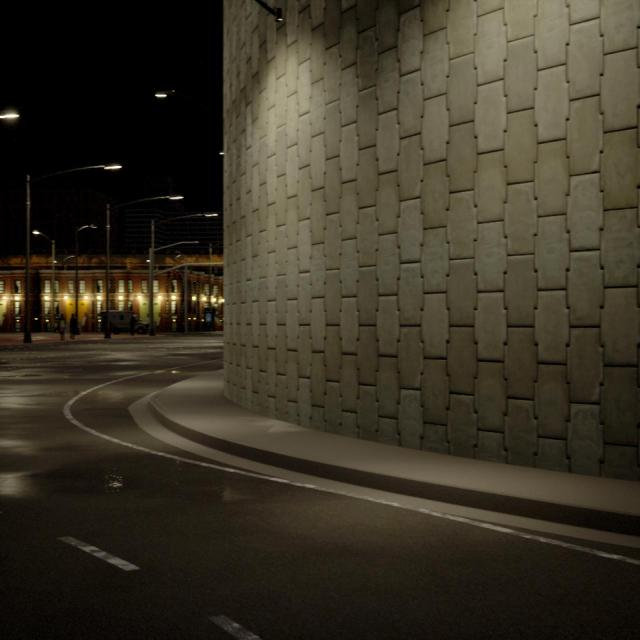Pedestrian: (69, 314, 76, 339), (59, 313, 65, 341), (130, 316, 135, 336)
Vehicle: (103, 311, 148, 335)
traffic_light: (174, 269, 176, 274)
